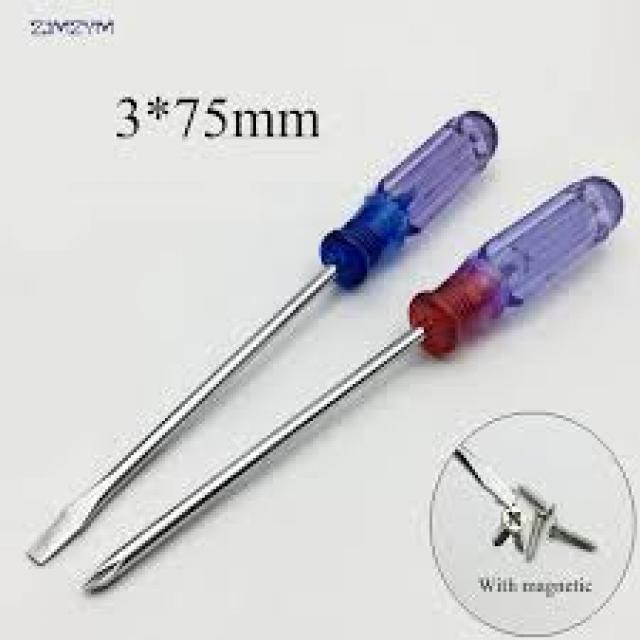screwdriver: (80, 173, 628, 598), (22, 104, 500, 570)
